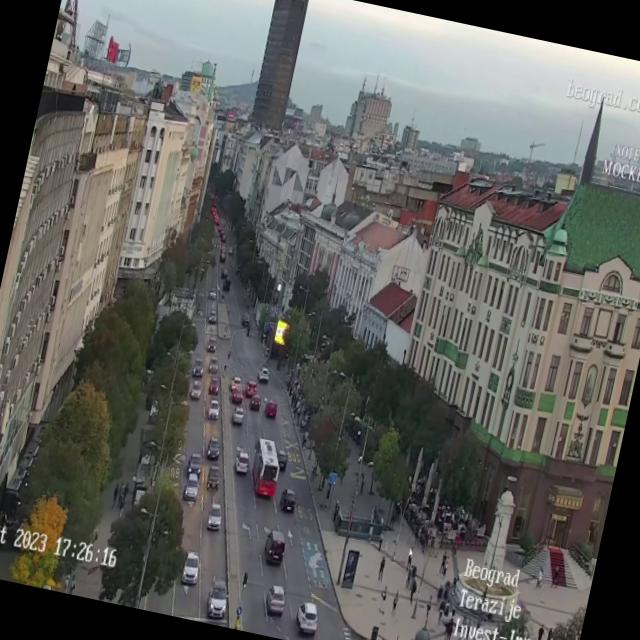bus: (245, 436, 285, 499)
car: (202, 578, 230, 620), (261, 524, 290, 562), (292, 600, 322, 636), (262, 582, 288, 618), (179, 550, 202, 586), (205, 500, 226, 532), (184, 468, 202, 501), (205, 462, 223, 491), (186, 452, 205, 479), (279, 486, 298, 512), (233, 450, 252, 476), (206, 437, 222, 462), (262, 396, 278, 419), (188, 381, 204, 404), (274, 452, 291, 472), (206, 400, 222, 421), (231, 402, 246, 424), (245, 378, 259, 398), (192, 357, 205, 378), (256, 364, 270, 383), (230, 388, 244, 406), (206, 379, 219, 398), (230, 376, 242, 395), (208, 358, 220, 376), (206, 338, 218, 355), (250, 396, 262, 411), (207, 308, 217, 325), (222, 278, 232, 294), (208, 284, 218, 298)
